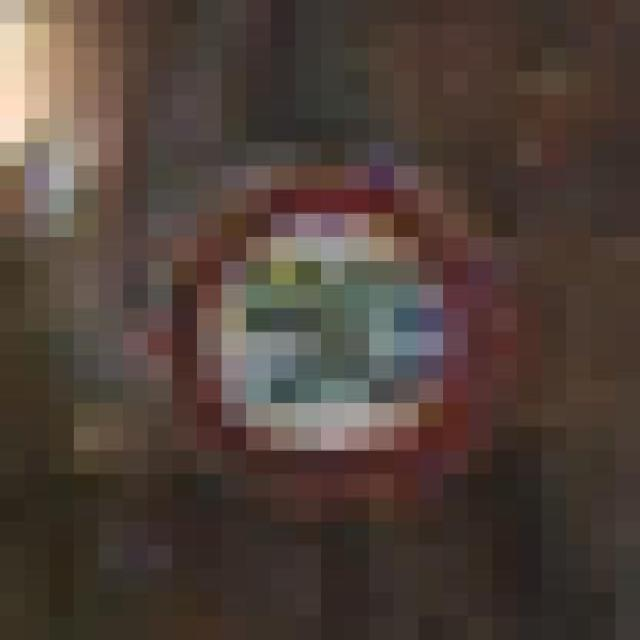50 mph speed limit: (148, 119, 542, 522)
